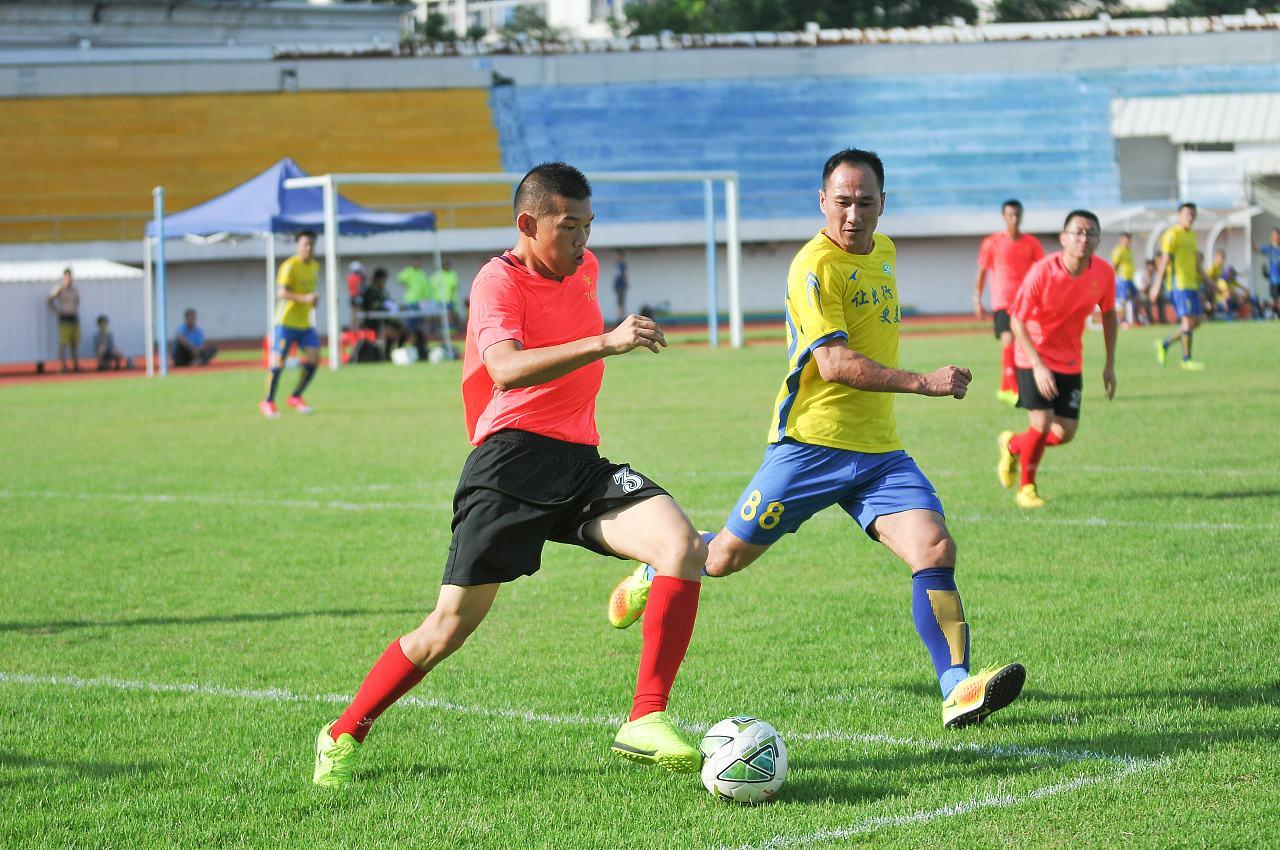football: (697, 714, 788, 807)
